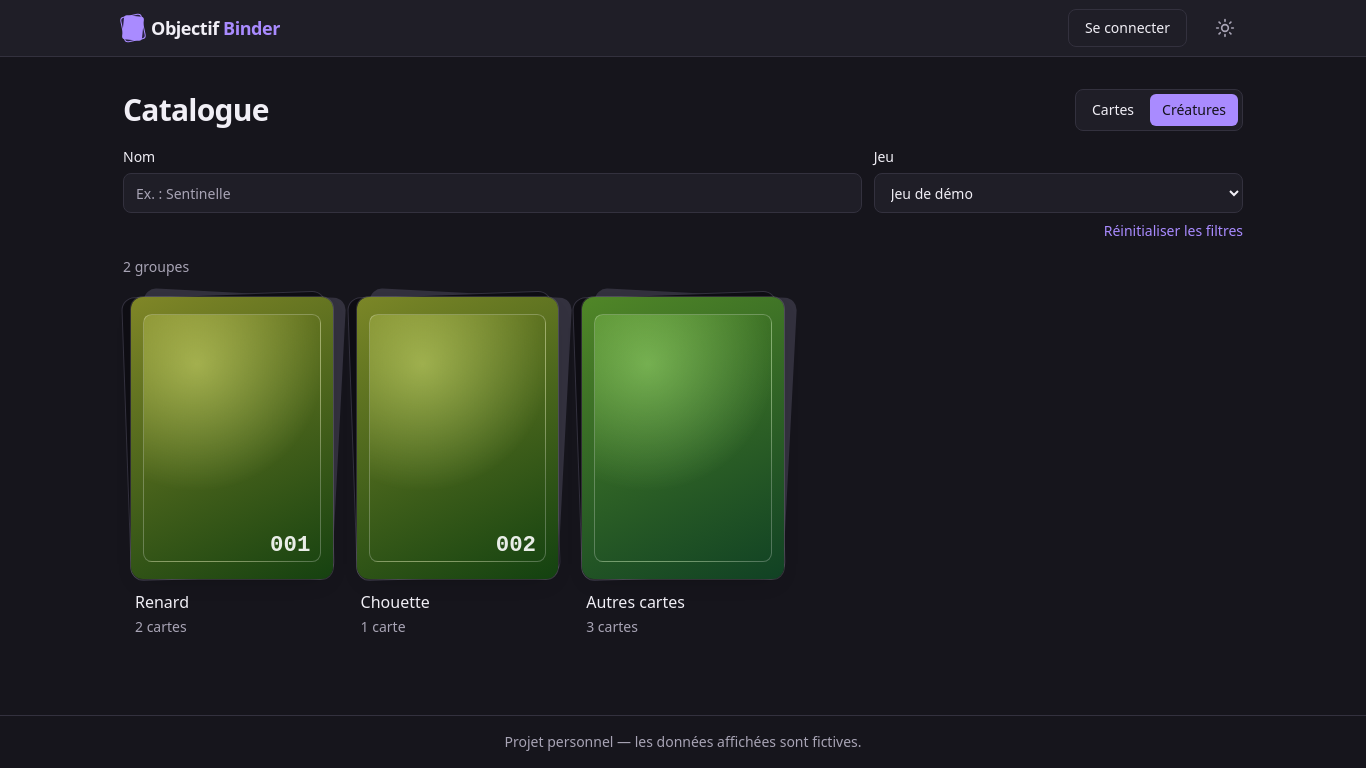
grouped catalogue (one entry per identity) › opens the cards of an entry, as a filter of the catalogue
Click the heading "Renard" at (162, 602), box [135,591,189,613]
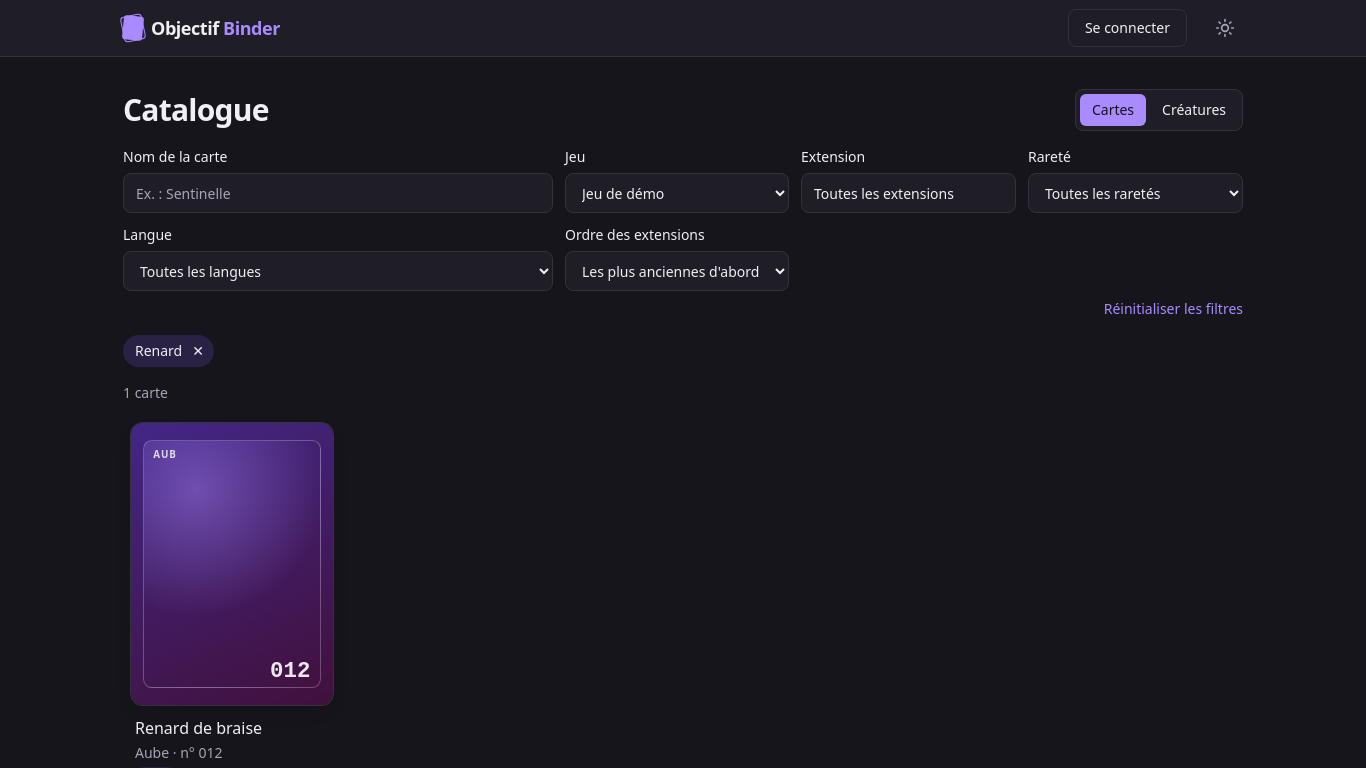
Expected: the button named "Retirer le filtre Renard" is shown, [186,339,210,363]
